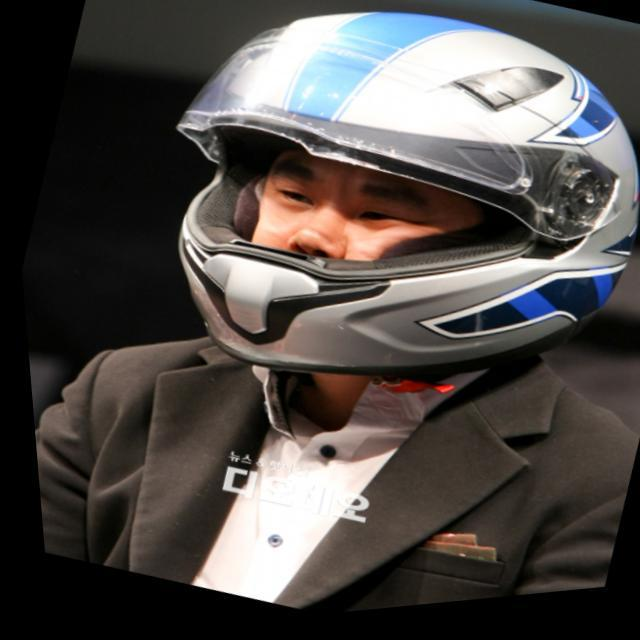Helmet: (171, 8, 639, 377)
